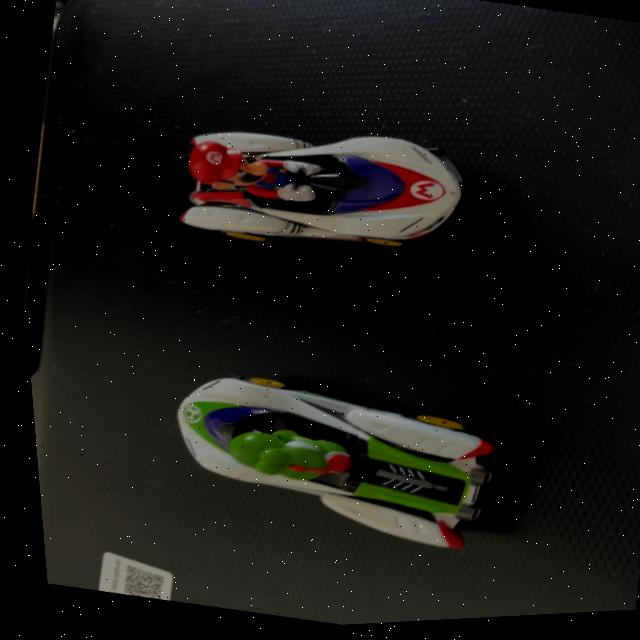mario: (132, 72, 511, 303)
yoshi: (110, 324, 541, 600)
